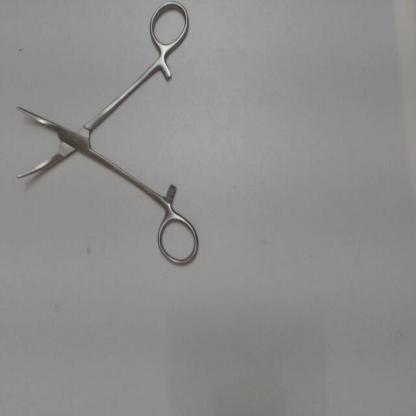Crile Artery Forceps: (8, 2, 204, 274)
